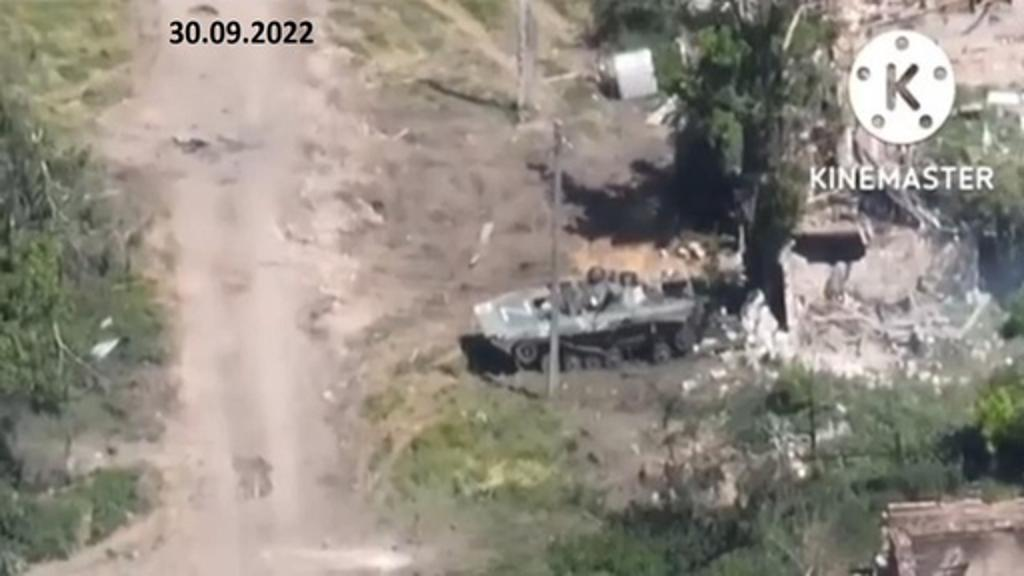APC-IFV: (470, 252, 712, 374)
